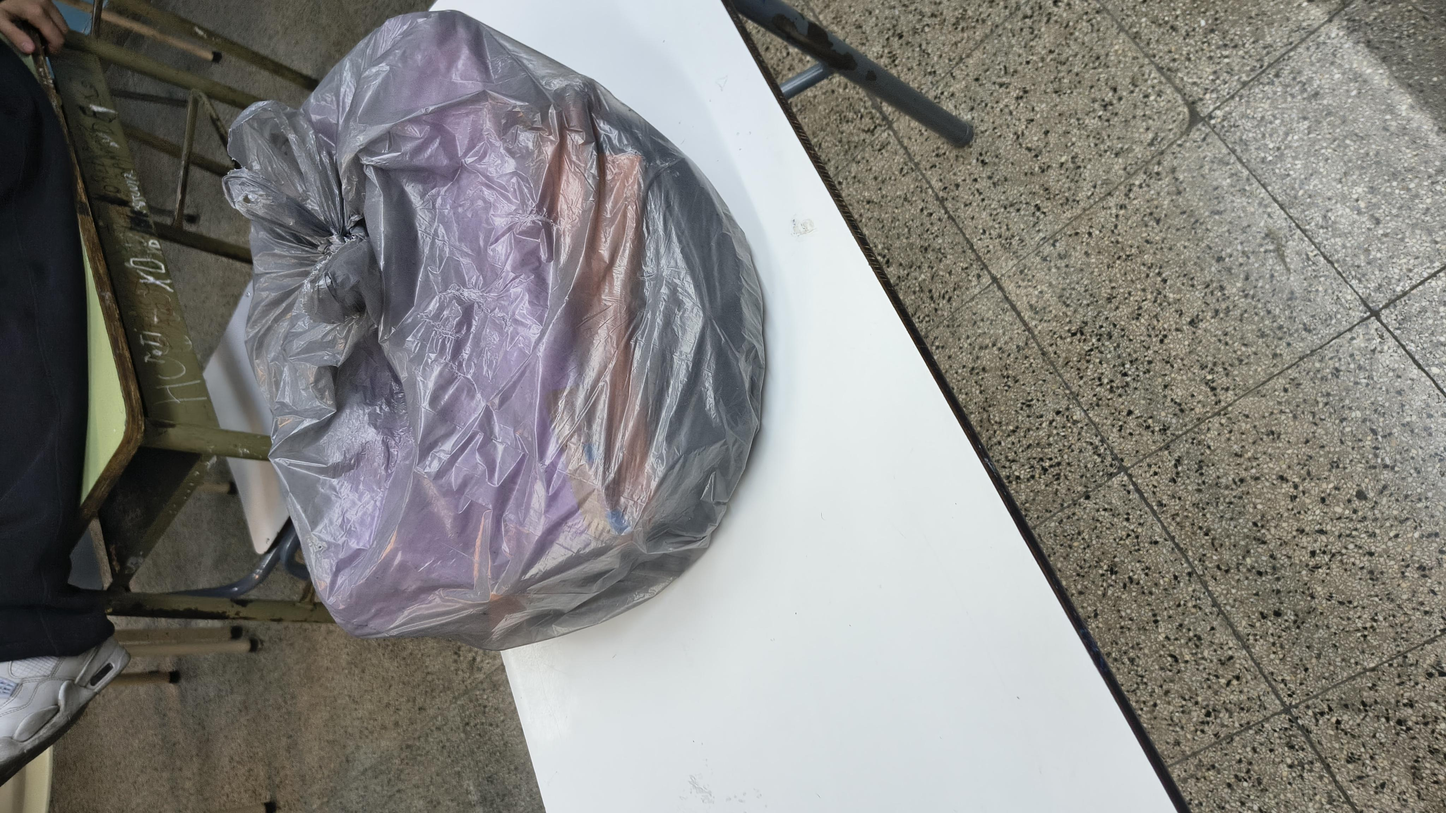Garbage: (257, 107, 1446, 441)
